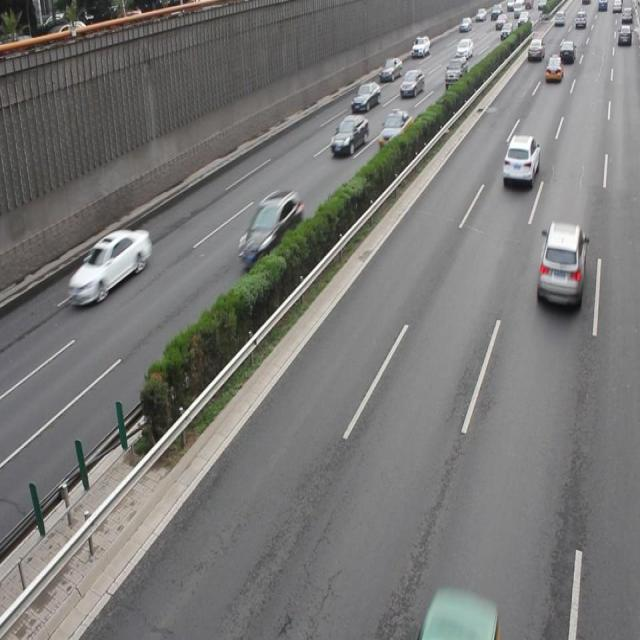car: (69, 225, 151, 307), (237, 188, 303, 264), (416, 583, 497, 640), (535, 218, 586, 308), (501, 133, 539, 187), (330, 114, 367, 155), (377, 110, 412, 151), (350, 80, 380, 114)
